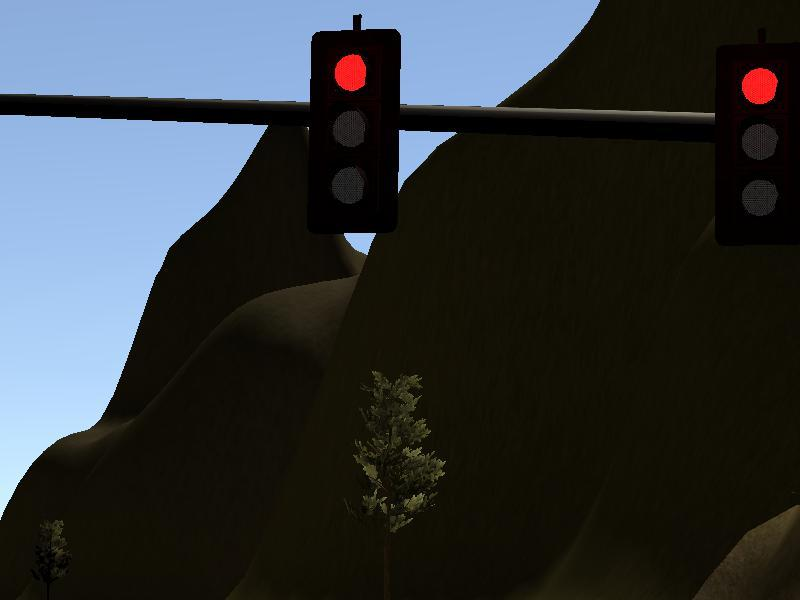Red: (314, 35, 396, 228), (722, 53, 794, 228)
